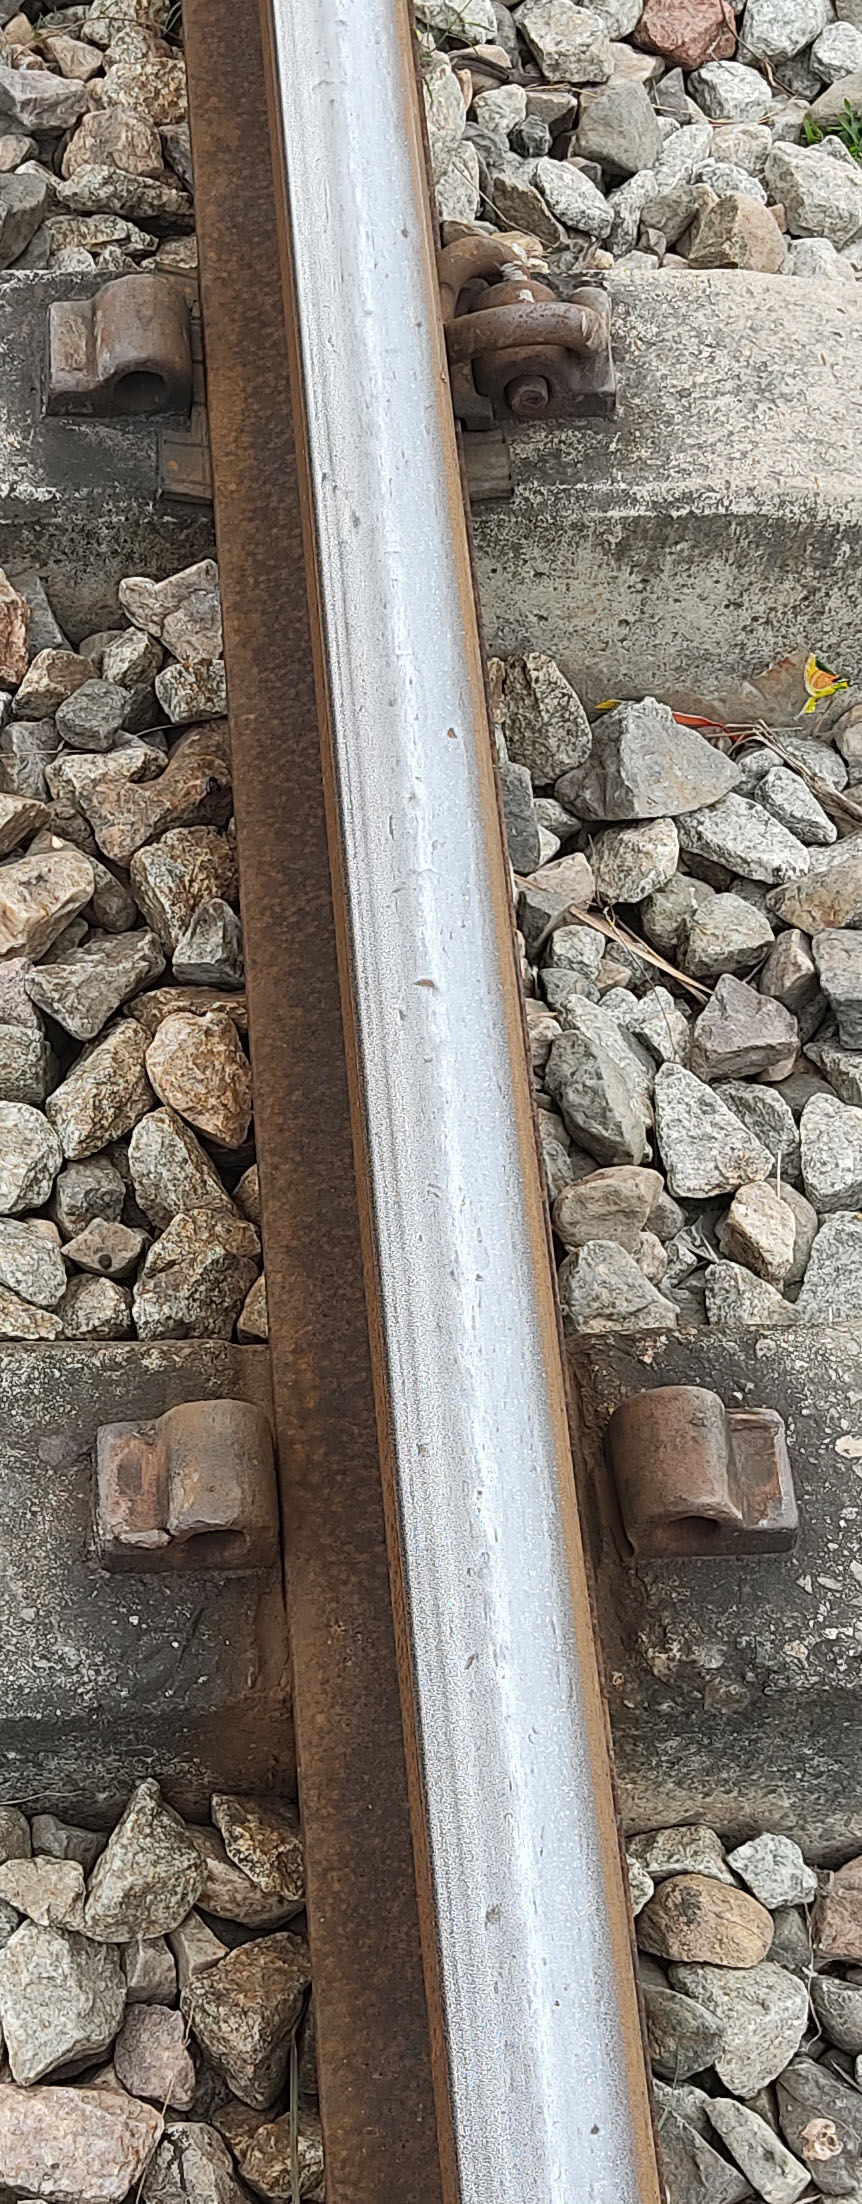error1: (561, 1254, 835, 1677), (70, 1285, 337, 1705), (430, 150, 693, 486), (67, 156, 245, 512)
